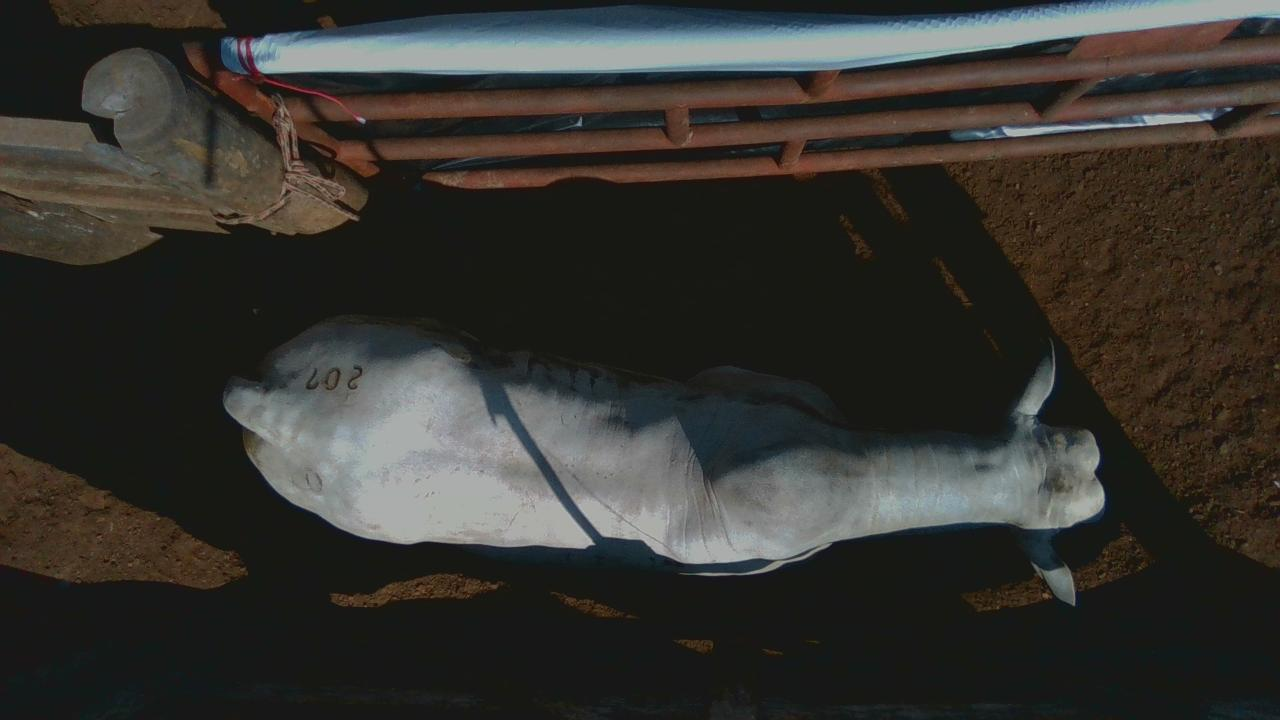cattle: (221, 311, 1107, 607)
